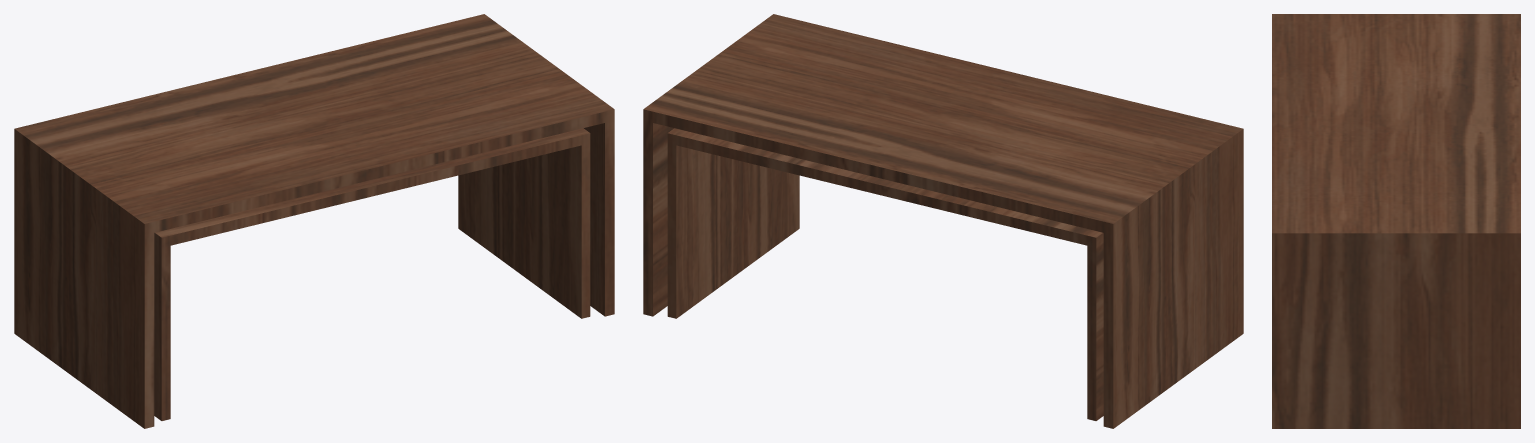
Rendered from MesaDoble_Coworking.fbx.
3 renders of one model, left to right at view 1: azimuth 30°, elevation 25°; view 2: azimuth 150°, elevation 25°; view 3: azimuth 270°, elevation 25°, orthographic. The views are drawn at different scales.
Parts seen in each view (by area): view 1: MesaDoble; view 2: MesaDoble; view 3: MesaDoble.
Part boxes in pixels (box(x1,y1,x2,y2)): MesaDoble: box(14, 14, 614, 428); MesaDoble: box(643, 14, 1243, 428); MesaDoble: box(1272, 14, 1520, 428).
Bounding box in the file's own units: 182 × 75.62 × 87.06.
